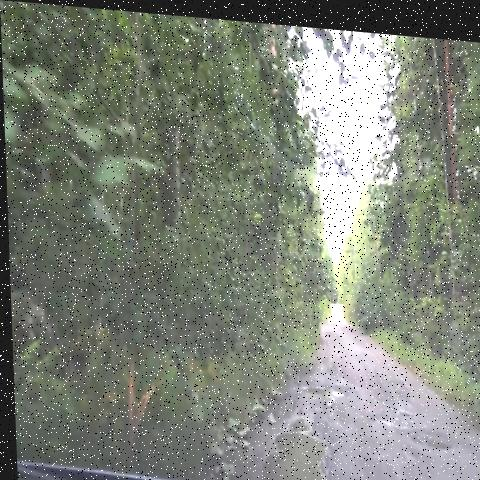pothole: (243, 394, 341, 480), (288, 367, 356, 401), (402, 421, 465, 454), (388, 388, 423, 417), (364, 408, 403, 431), (315, 348, 341, 377)
